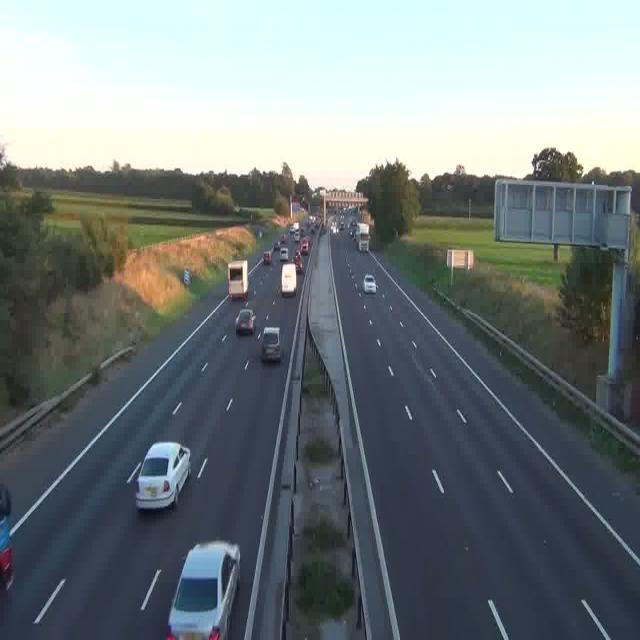bus: (228, 260, 250, 298)
car: (168, 539, 239, 640), (135, 442, 191, 509), (261, 326, 283, 361), (236, 307, 256, 334), (362, 274, 377, 293), (294, 258, 304, 274), (262, 250, 272, 263), (278, 249, 288, 262), (300, 243, 308, 256)
truck: (0, 481, 14, 593), (281, 260, 297, 292), (358, 221, 370, 250), (332, 220, 339, 234)
